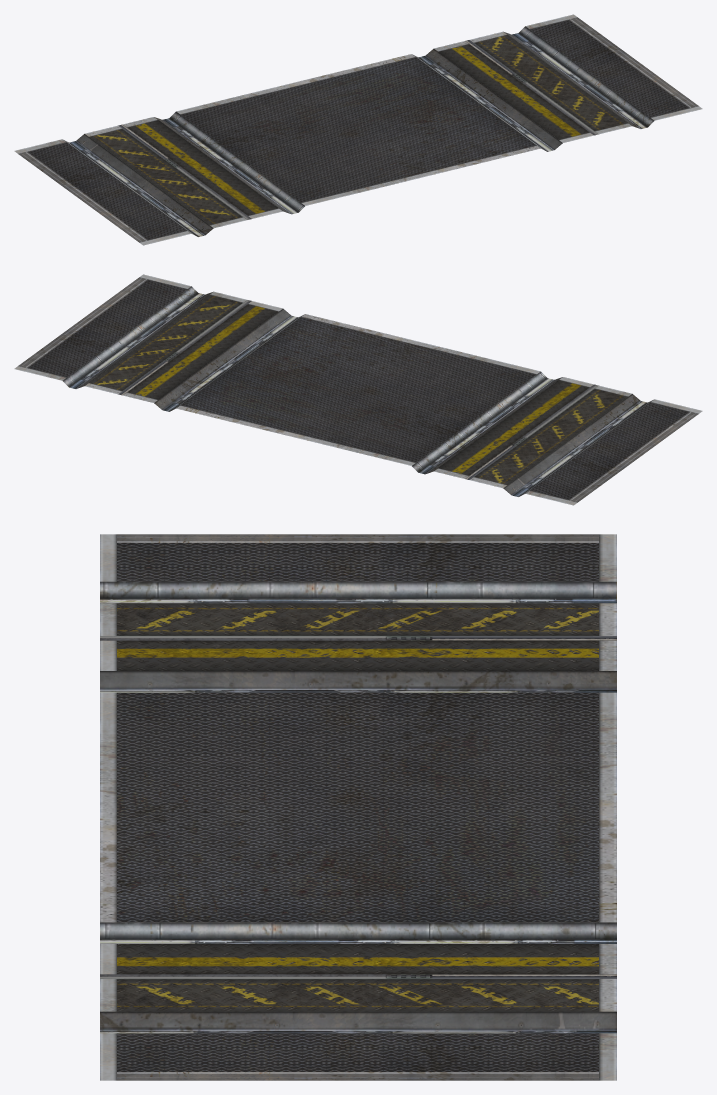
File: Floor_C_5mts_02.fbx
The picture shows the model from 3 angles, top to bottom: view 1: azimuth 30°, elevation 25°; view 2: azimuth 150°, elevation 25°; view 3: azimuth 270°, elevation 25°; orthographic projection. The views are drawn at different scales.
Parts seen in each view (by area): view 1: Floor_C_5mts_02; view 2: Floor_C_5mts_02; view 3: Floor_C_5mts_02.
Boxes of the visible parts, x1=… form: Floor_C_5mts_02: x1=14, y1=14, x2=702, y2=245; Floor_C_5mts_02: x1=14, y1=274, x2=702, y2=505; Floor_C_5mts_02: x1=100, y1=534, x2=616, y2=1080.
Bounding box in the file's own units: 500 × 4.33 × 200.
Materials: 1 (1 with a texture image).
